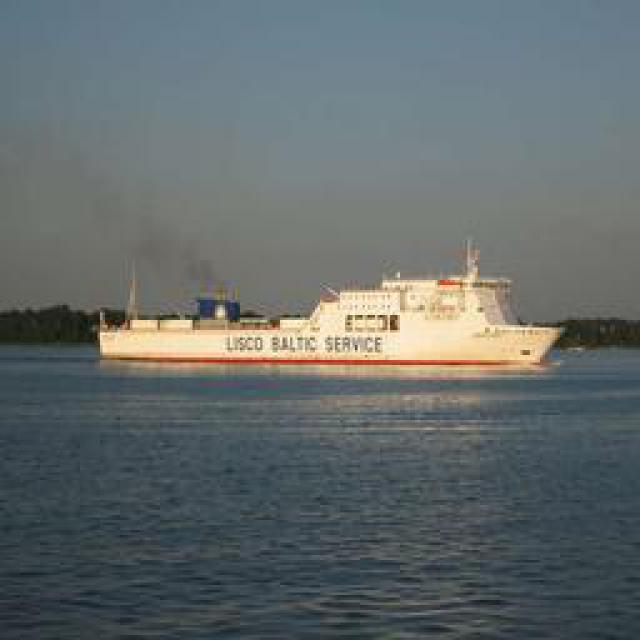Ship: (89, 236, 564, 370)
